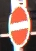No entry: (5, 5, 30, 46)
